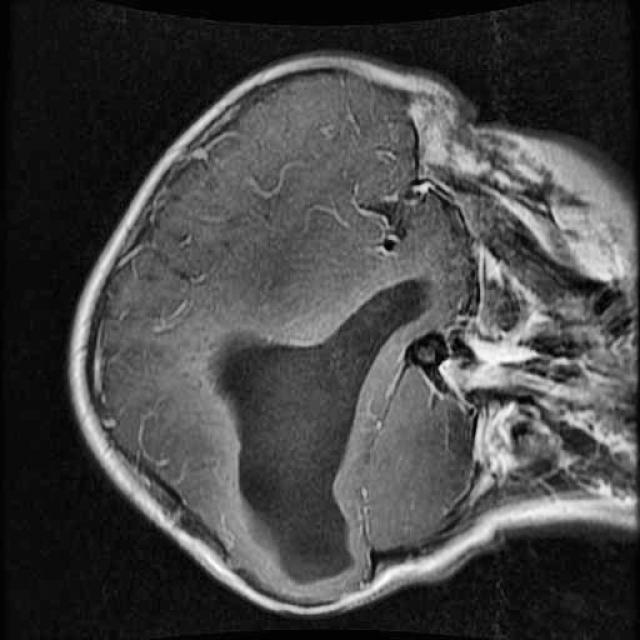Tumor: (200, 258, 444, 598)
